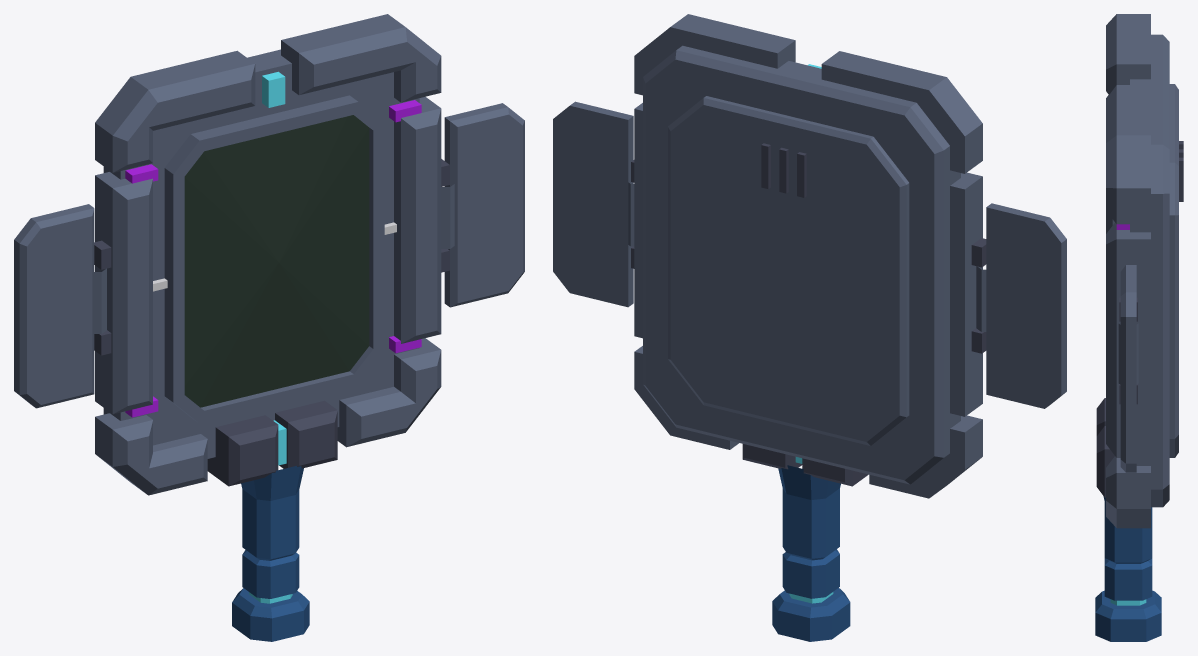
The model's file is phase-mirror-1a43e9.glb.
The picture shows the model from 3 angles, left to right: view 1: azimuth 30°, elevation 25°; view 2: azimuth 150°, elevation 25°; view 3: azimuth 270°, elevation 25°; orthographic projection. The views are drawn at different scales.
Parts seen in each view (by area): view 1: mirror-matte, mirror-crystal, panel-left-matte, panel-right-matte, mirror-metal; view 2: mirror-matte, panel-left-matte, panel-right-matte, mirror-metal; view 3: mirror-matte, panel-right-matte, mirror-metal, mirror-crystal.
Part boxes in pixels (x1,y1,x2,y2): mirror-matte: [95, 14, 441, 641]; mirror-crystal: [125, 71, 421, 603]; panel-left-matte: [14, 204, 106, 408]; panel-right-matte: [441, 103, 524, 307]; mirror-metal: [94, 159, 449, 486]; mirror-matte: [634, 14, 982, 641]; panel-left-matte: [976, 203, 1066, 408]; panel-right-matte: [553, 101, 634, 307]; mirror-metal: [631, 143, 986, 486]; mirror-matte: [1095, 14, 1178, 641]; panel-right-matte: [1118, 265, 1138, 472]; mirror-metal: [1096, 141, 1183, 497]; mirror-crystal: [1110, 224, 1146, 605].
Bounding box in the file's own units: 0.4258 × 0.4604 × 0.0665.
